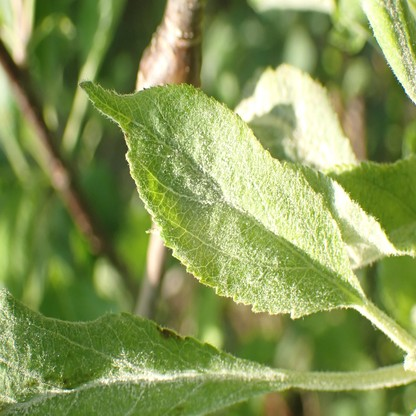powder: (77, 80, 366, 316), (2, 288, 288, 416), (360, 0, 416, 104)
